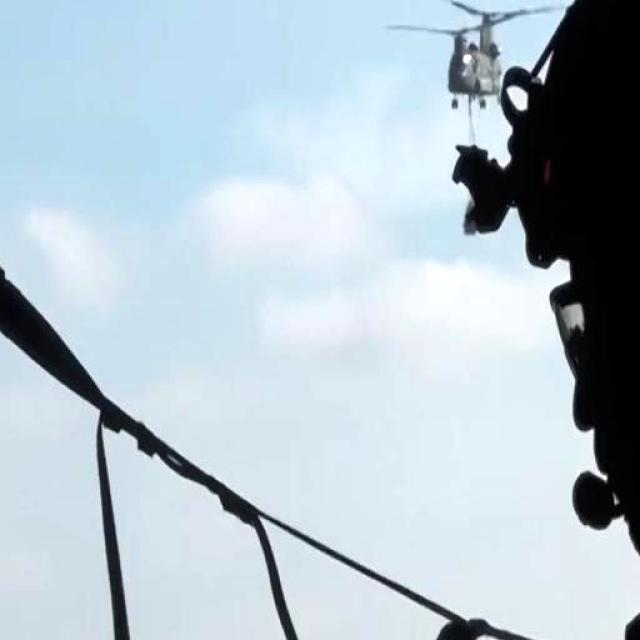drone: (425, 0, 528, 111)
